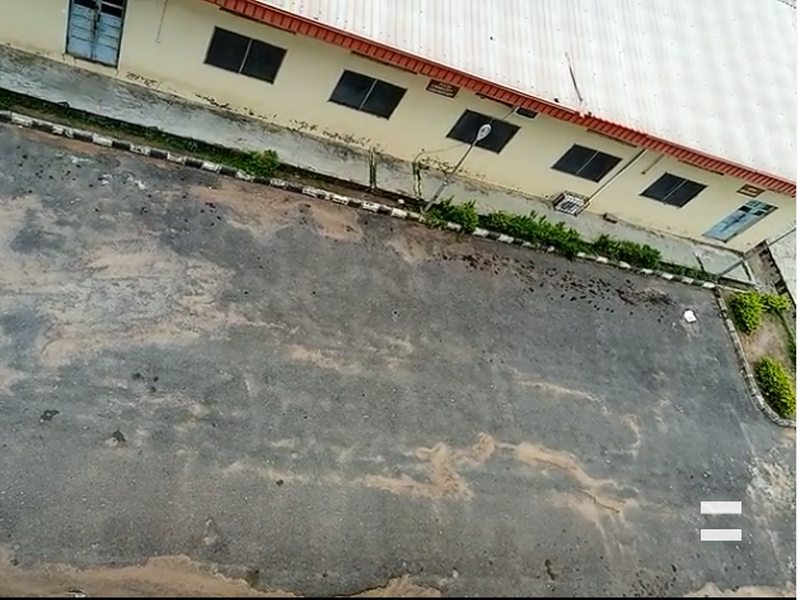five: (653, 245, 771, 406)
four: (491, 216, 601, 394)
one: (1, 96, 122, 310)
three: (318, 194, 442, 336)
two: (167, 133, 279, 328)
